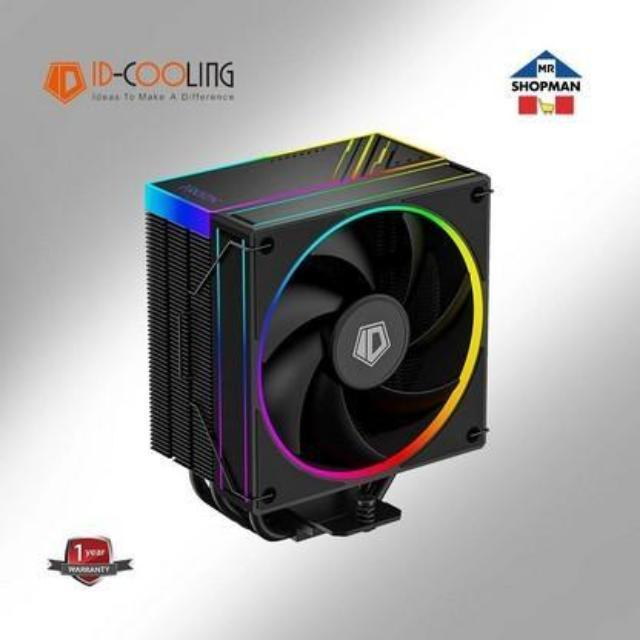CPU_Fan: (140, 130, 488, 544)
